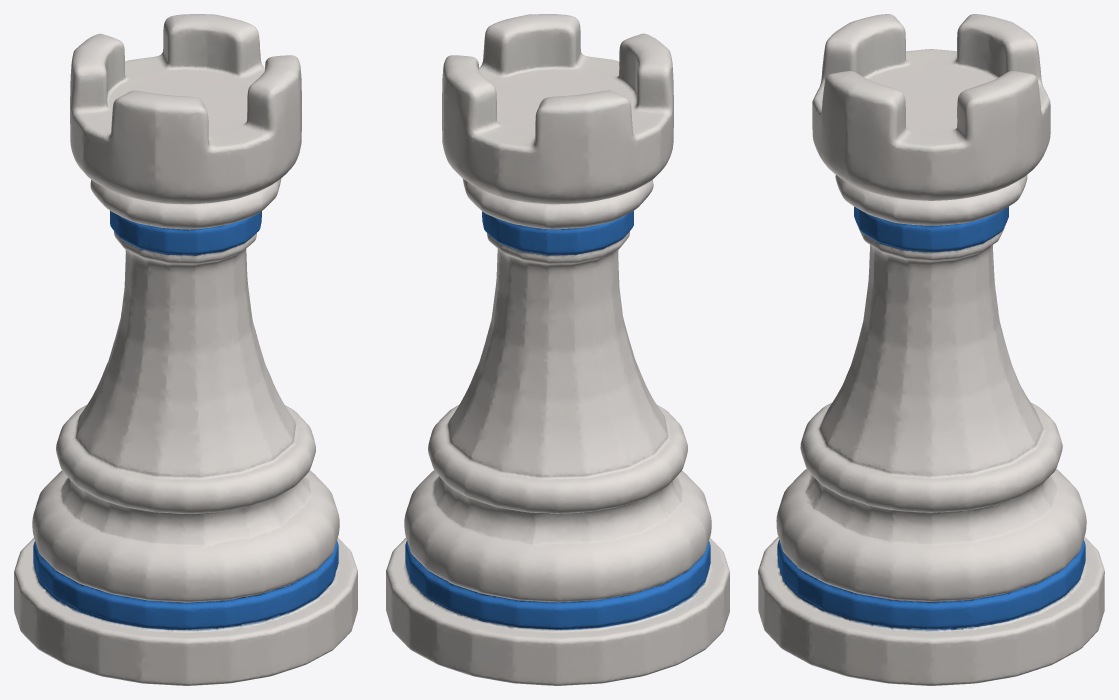
The model's file is rook.glb.
3 renders of one model, left to right at view 1: azimuth 30°, elevation 25°; view 2: azimuth 150°, elevation 25°; view 3: azimuth 270°, elevation 25°, orthographic.
Bounding box in the file's own units: 1.06 × 1.9 × 1.06.
1 material, 1 textured.
